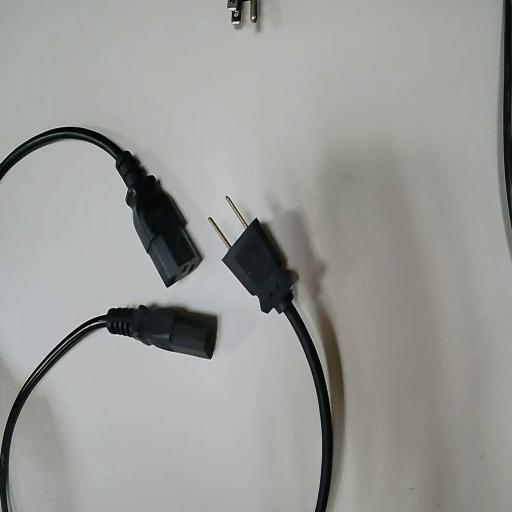wire: (0, 306, 216, 511), (225, 220, 333, 511), (0, 128, 200, 271)
